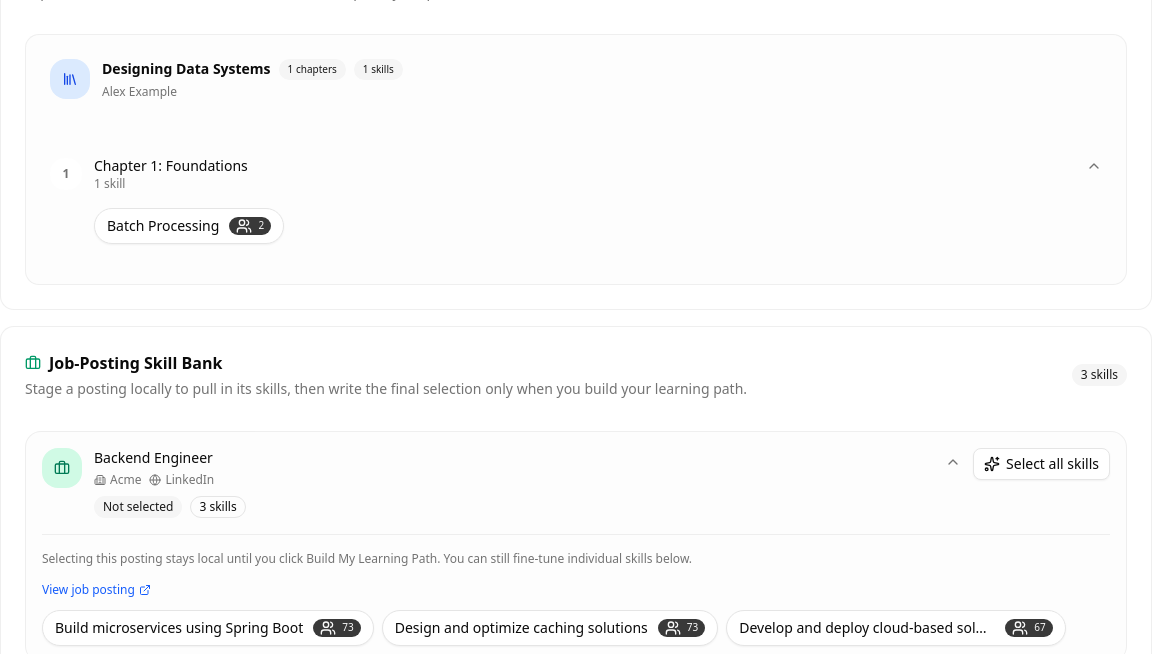
Scenario: StudentLearningPathPage › clears every staged posting skill when a draft posting selection is removed
This screenshot has width=1152, height=654.
(page scrolled)
Click the button "Design and optimize caching solutions 73" at (550, 628), box [382, 610, 718, 646]
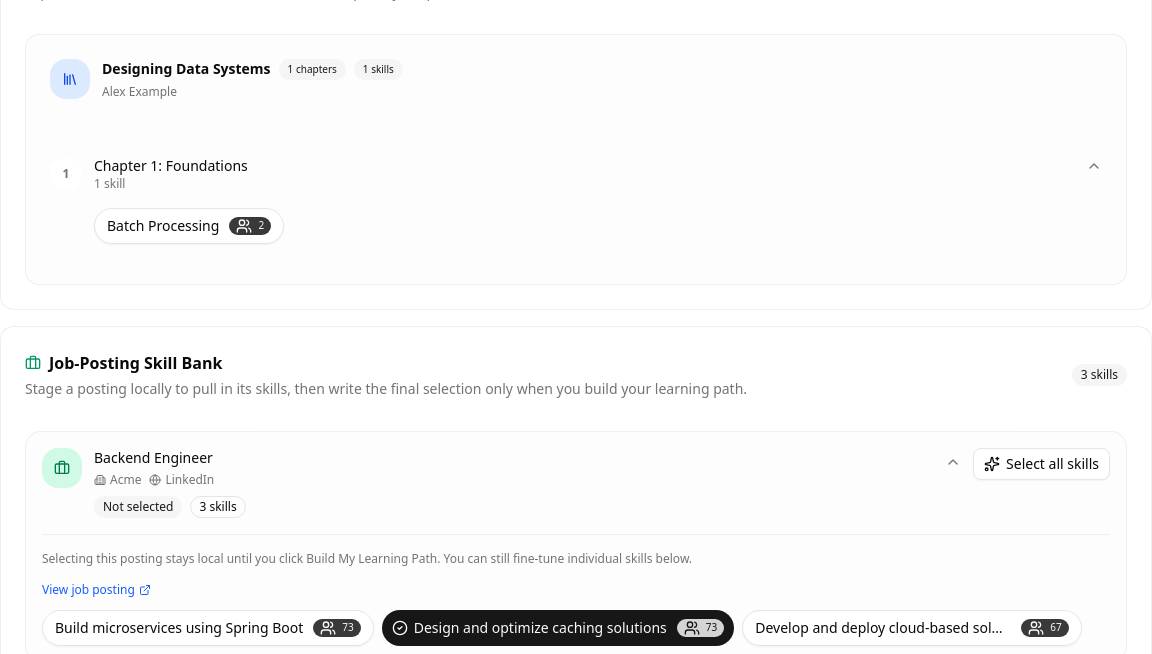
Click the button "Develop and deploy cloud-based solutions 67" at (912, 628), box [742, 610, 1082, 646]
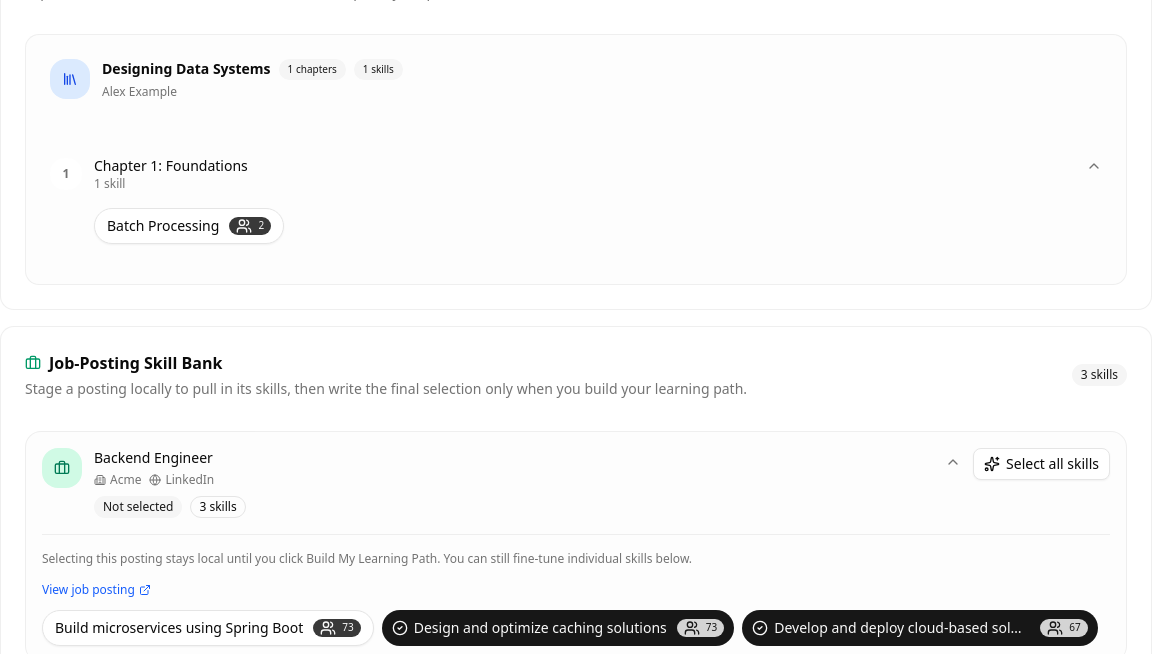
Click the button "Select all skills" at (1042, 464), box [973, 448, 1110, 480]
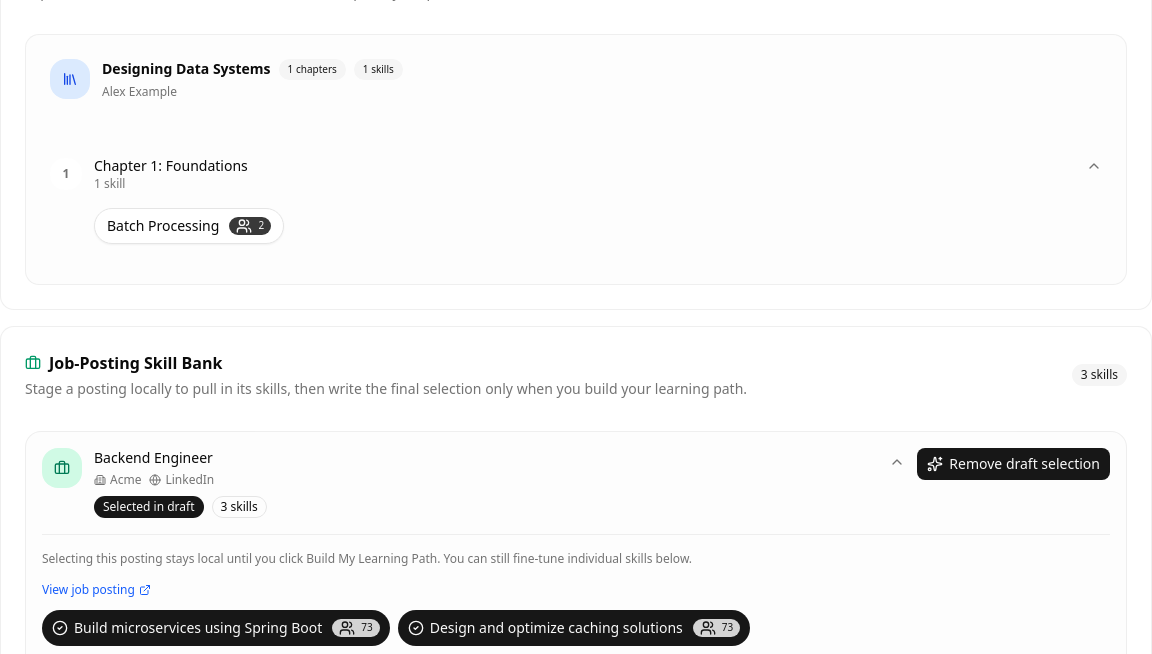
Click the button "Remove draft selection" at (1014, 464), box [917, 448, 1110, 480]
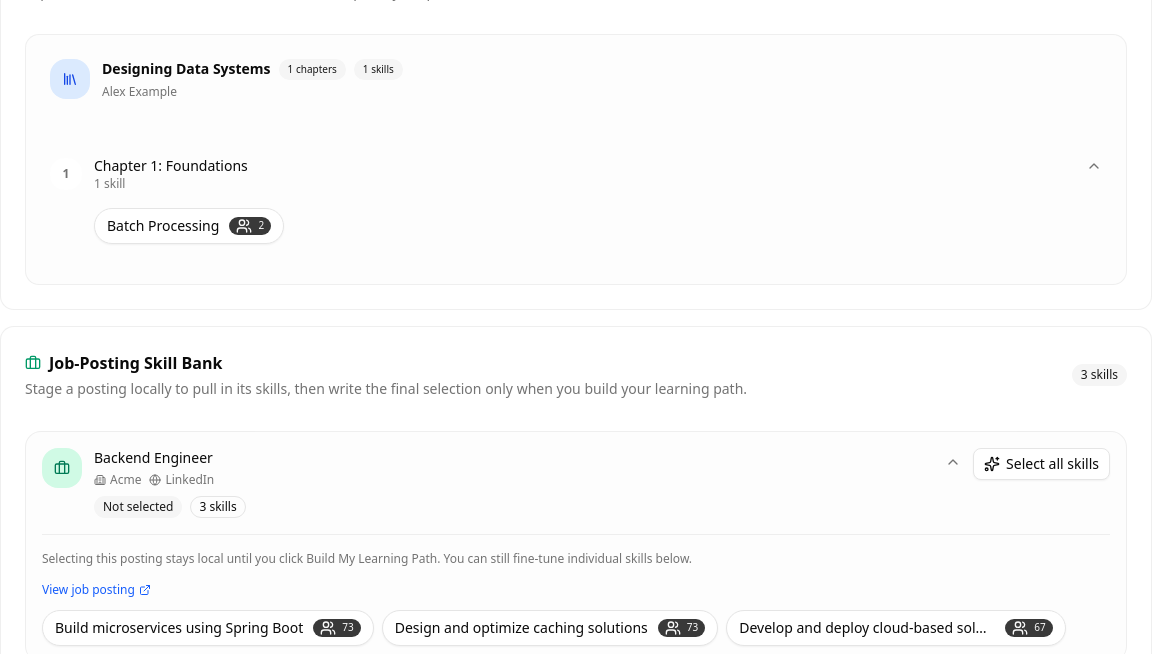
Now the text "Not selected" is shown, box [94, 496, 182, 518]
